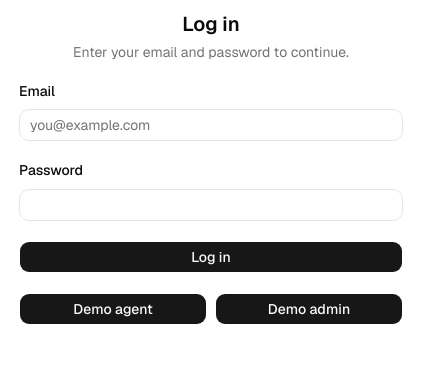
Test: client-side validation › shows an inline error and never submits for a malformed email
Step 1. Type "not-an-email" into the field labelled "Email" → (211, 125), box [19, 109, 403, 141]
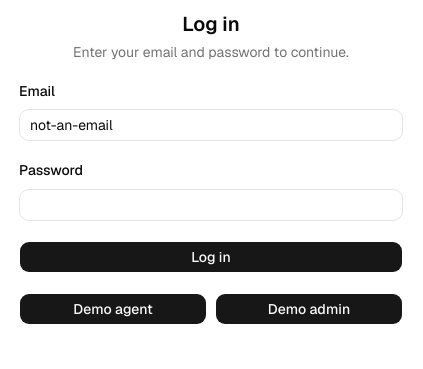
Step 2. Type "whatever123" into the password field labelled "Password" → (211, 204), box [19, 188, 403, 220]
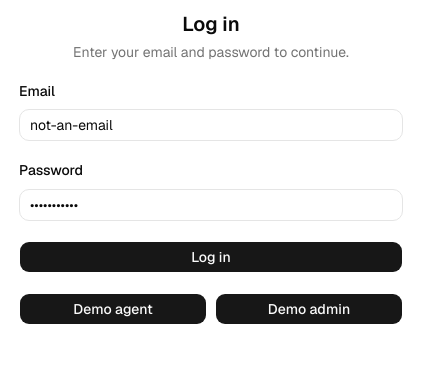
Step 3. Click the button "Log in" → (211, 256), box [19, 240, 403, 272]
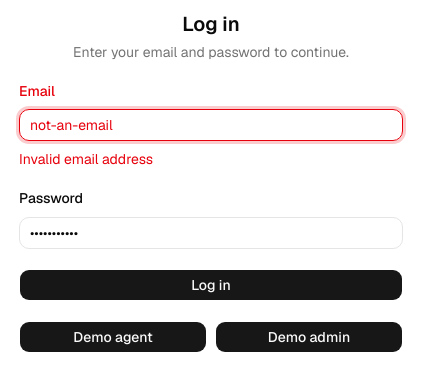
Now the message "Invalid email address" is shown, box [19, 150, 153, 168]
